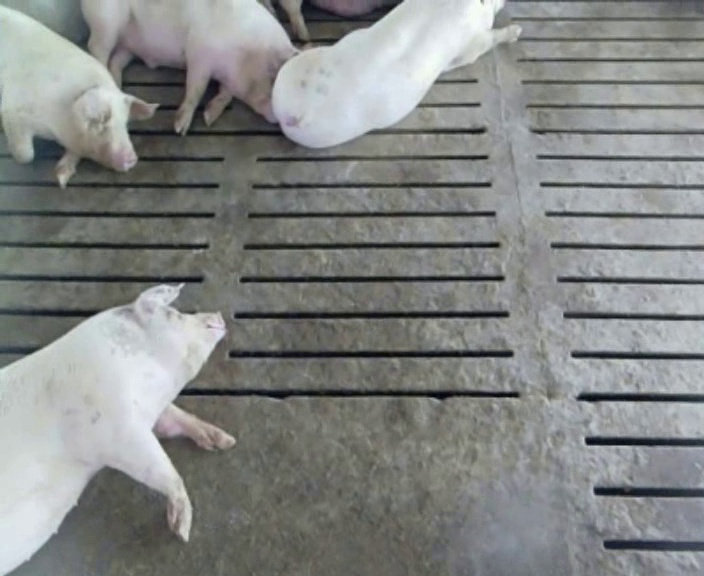pig: (0, 284, 234, 574), (273, 2, 520, 147), (82, 3, 295, 133)
